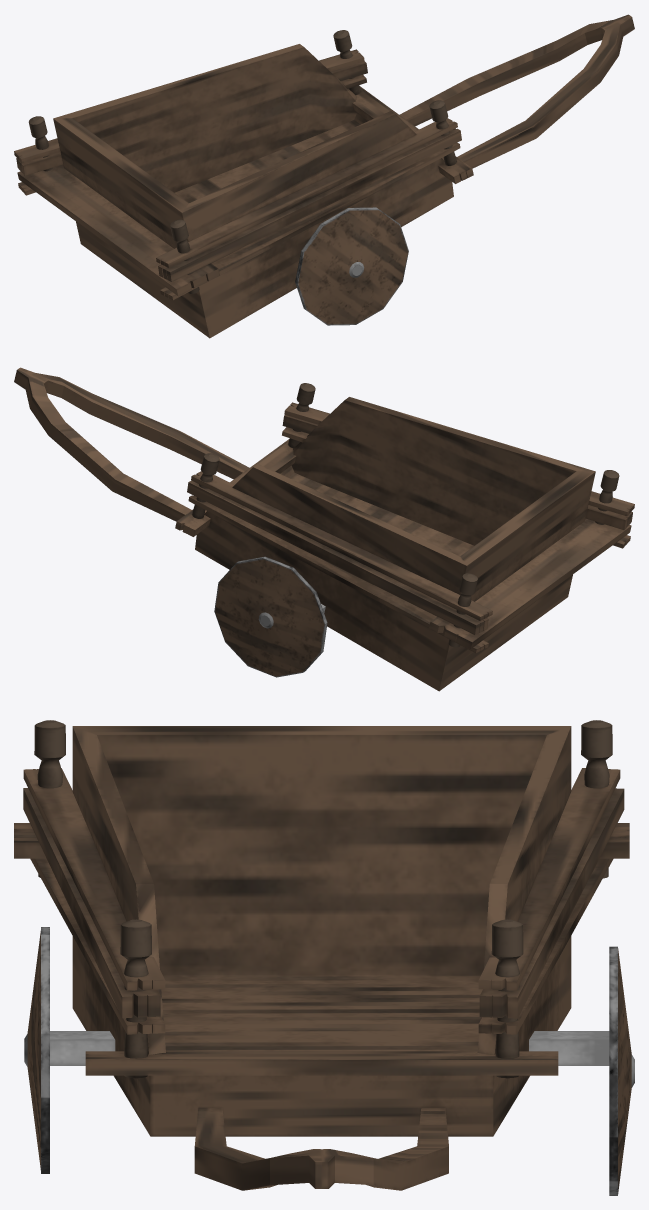
The model's file is CartAnimated.fbx.
3 renders of one model, top to bottom at view 1: azimuth 30°, elevation 25°; view 2: azimuth 150°, elevation 25°; view 3: azimuth 270°, elevation 25°, orthographic. The views are drawn at different scales.
Parts seen in each view (by area): view 1: CartMain.001, CartMain; view 2: CartMain.001, CartMain.002; view 3: CartMain.001, CartMain.002, CartMain.
Boxes of the visible parts, x1,y1,x2,y2 form: CartMain.001: [14, 14, 634, 338]; CartMain: [295, 207, 408, 325]; CartMain.001: [14, 367, 634, 691]; CartMain.002: [214, 556, 327, 677]; CartMain.001: [14, 720, 629, 1190]; CartMain.002: [609, 946, 634, 1195]; CartMain: [24, 927, 49, 1173].
Bounding box in the file's own units: 367 × 115 × 187.
